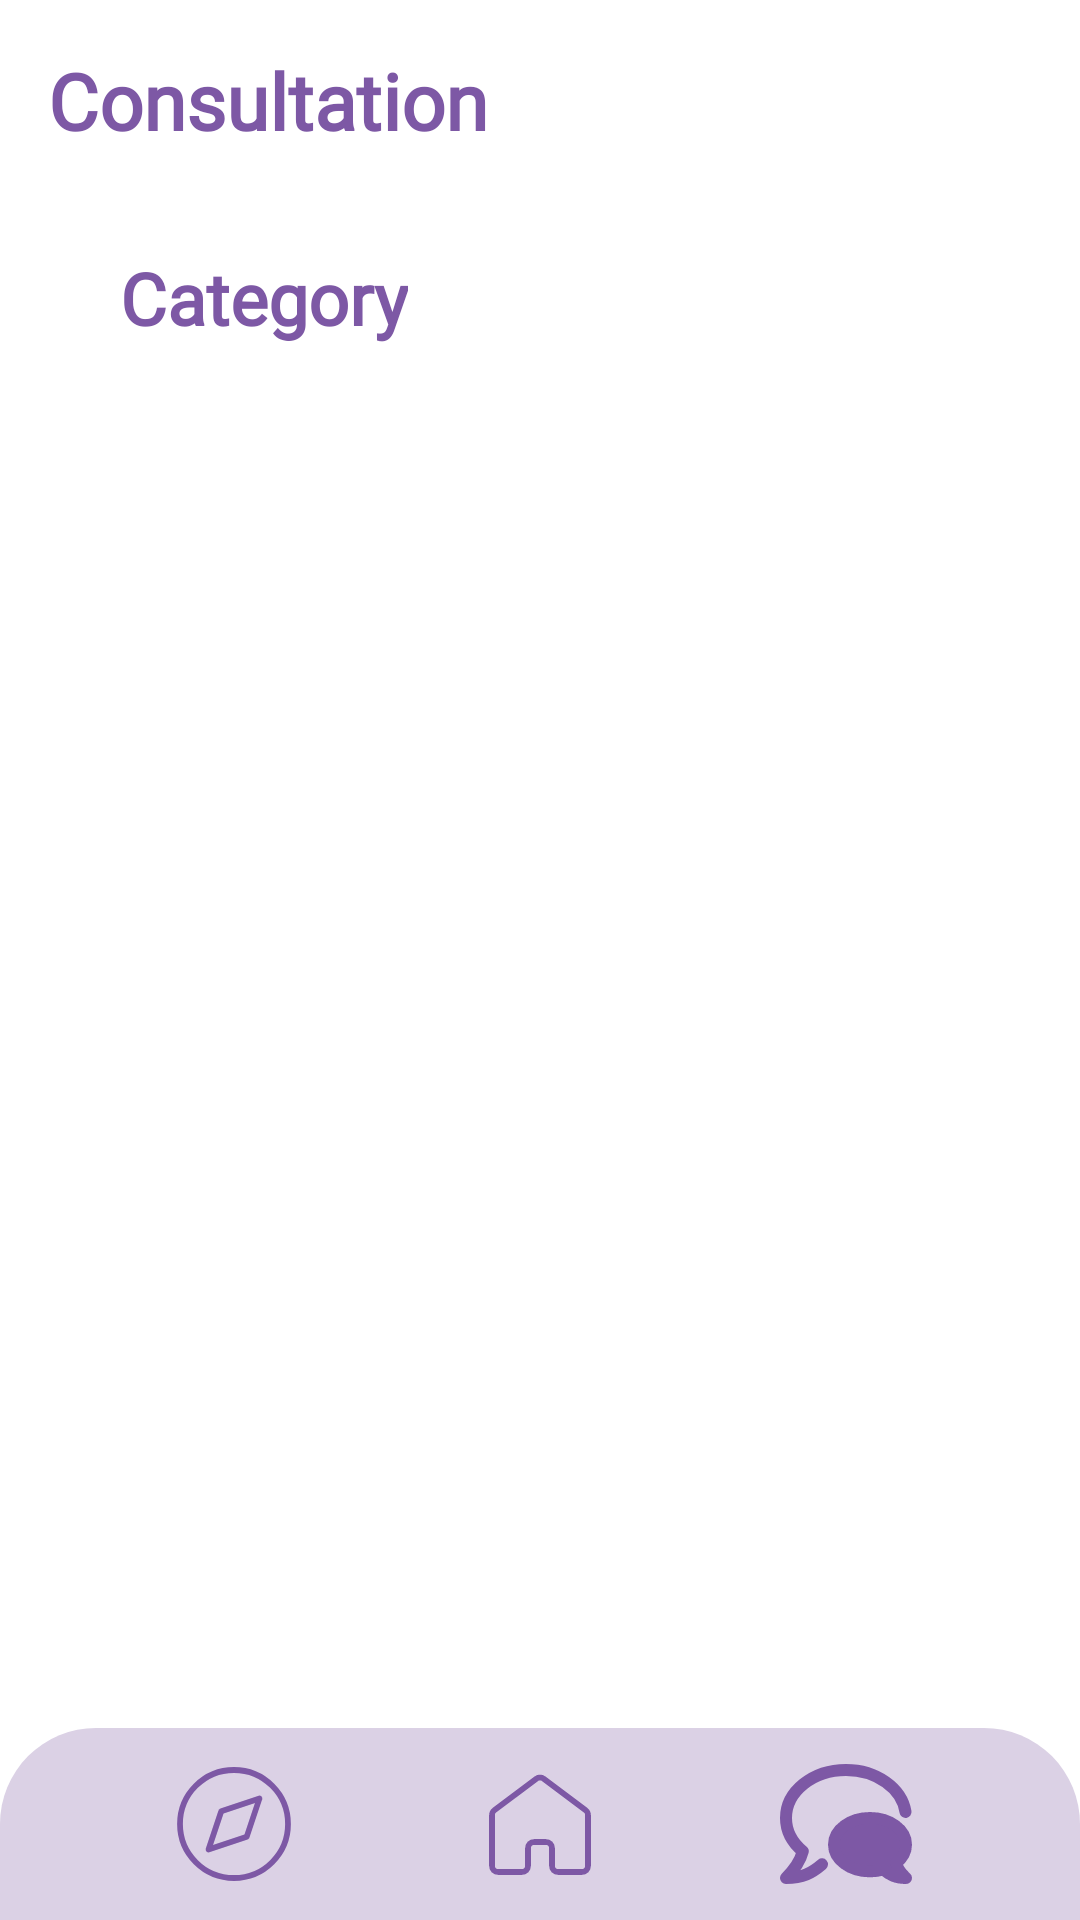

Point at icon controls on the screen. Image size 1080 x 1920, points as point (x, y).
chats: point (846, 1824)
compass: point (234, 1824)
home: point (540, 1824)
